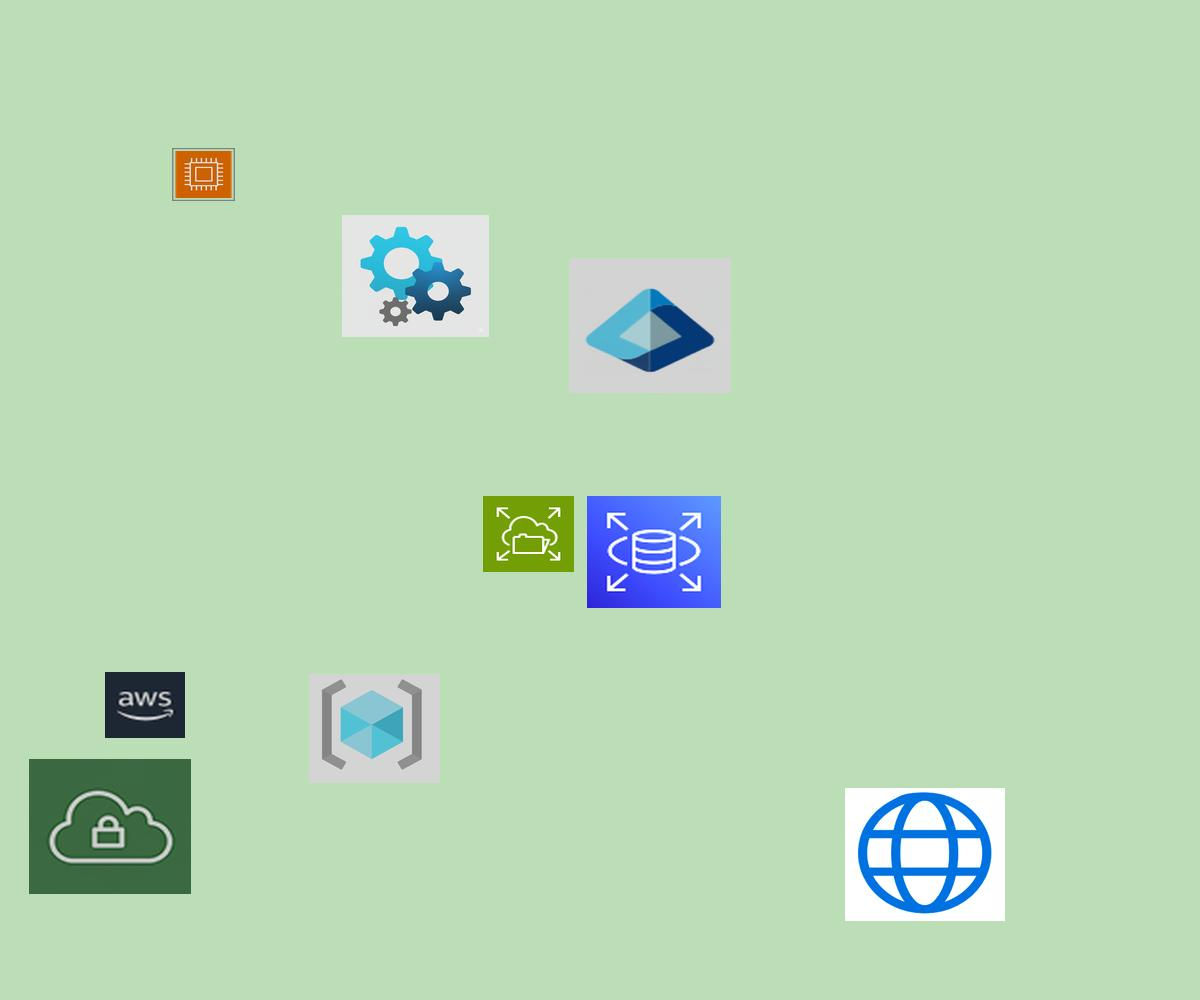AWS-Category_Compute: (172, 148, 235, 201)
AWS-Cloud-logo: (105, 672, 185, 738)
AWS-EFS: (483, 496, 574, 572)
AWS-Private_vpc: (29, 759, 191, 894)
AWS-RDS: (587, 496, 721, 608)
Azure_api: (342, 215, 489, 337)
Azure_http: (845, 788, 1005, 921)
Azure_microsoft_entra: (569, 258, 731, 393)
Azure_resource_group: (309, 674, 440, 783)
